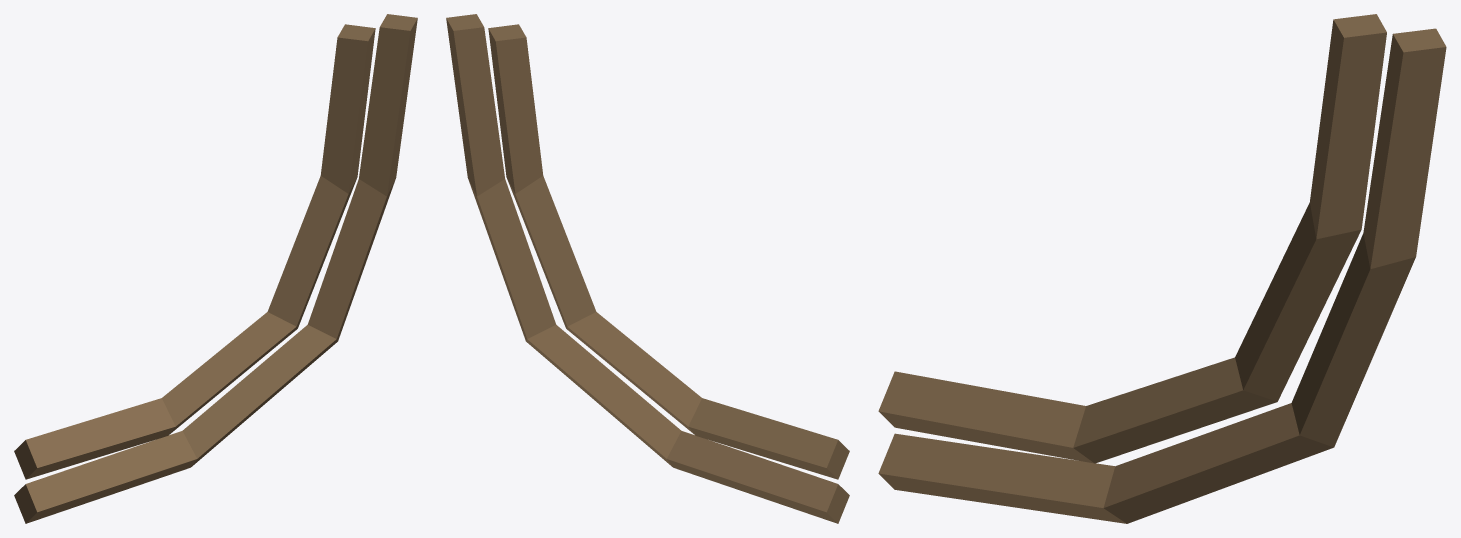
The model's file is SM_Prop_Wires_Corner_01.fbx.
The picture shows the model from 3 angles, left to right: view 1: azimuth 30°, elevation 25°; view 2: azimuth 150°, elevation 25°; view 3: azimuth 330°, elevation 25°; orthographic projection. The views are drawn at different scales.
Parts seen in each view (by area): view 1: SM_Prop_Wires_Corner_01; view 2: SM_Prop_Wires_Corner_01; view 3: SM_Prop_Wires_Corner_01.
Boxes of the visible parts, <box> form: SM_Prop_Wires_Corner_01: <box>14,14,417,523</box>; SM_Prop_Wires_Corner_01: <box>446,14,849,523</box>; SM_Prop_Wires_Corner_01: <box>878,14,1446,523</box>.
Bounding box in the file's own units: 27.86 × 27.86 × 2.85.
